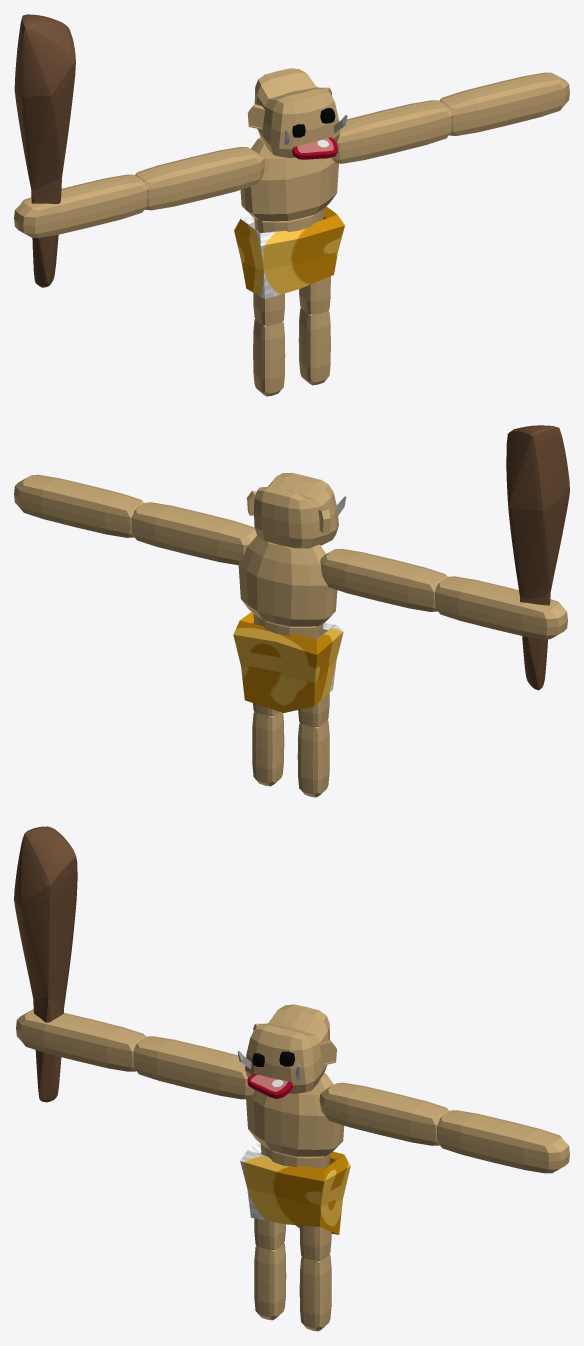
The model's file is cave man rig.fbx.
3 views of the same model, one above another, from view 1: azimuth 30°, elevation 25°; view 2: azimuth 150°, elevation 25°; view 3: azimuth 330°, elevation 25° (orthographic).
Visible parts, largest first — view 1: Cube.003, Cube.011, Cube.009, Cube.006, Cube, Cube.001, Cube.005, Cube.004, Cube.008, Cube.007, Cube.002; view 2: Cube.003, Cube.011, Cube, Cube.009, Cube.006, Cube.005, Cube.001, Cube.004, Cube.008, Cube.002; view 3: Cube.003, Cube.011, Cube.009, Cube.006, Cube.005, Cube, Cube.001, Cube.008, Cube.004, Cube.007, Cube.002.
Part boxes in pixels (box(x1,y1,x2,y2)): Cube.003: box(14, 14, 147, 287); Cube.011: box(234, 206, 344, 298); Cube.009: box(247, 68, 347, 159); Cube.006: box(439, 72, 569, 135); Cube: box(240, 137, 338, 221); Cube.001: box(135, 147, 265, 210); Cube.005: box(331, 100, 451, 163); Cube.004: box(253, 319, 285, 396); Cube.008: box(298, 308, 330, 385); Cube.007: box(299, 276, 330, 314); Cube.002: box(253, 293, 284, 325); Cube.003: box(435, 425, 569, 690); Cube.011: box(233, 612, 343, 712); Cube: box(238, 535, 337, 626); Cube.009: box(247, 473, 346, 548); Cube.006: box(14, 474, 143, 537); Cube.005: box(131, 502, 256, 565); Cube.001: box(320, 548, 447, 611); Cube.004: box(297, 720, 329, 797); Cube.008: box(252, 711, 284, 786); Cube.002: box(298, 693, 329, 726); Cube.003: box(14, 826, 145, 1102); Cube.011: box(240, 1142, 350, 1234); Cube.009: box(237, 1004, 336, 1098); Cube.006: box(437, 1110, 569, 1173); Cube.005: box(319, 1082, 448, 1145); Cube: box(246, 1073, 344, 1156); Cube.001: box(133, 1036, 254, 1099); Cube.008: box(299, 1254, 331, 1331); Cube.004: box(254, 1243, 286, 1320); Cube.007: box(299, 1225, 331, 1260); Cube.002: box(254, 1218, 285, 1249).
Bounding box in the file's own units: 1029 × 769 × 155.
